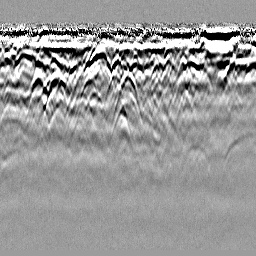cavity: (110, 68, 145, 123)
